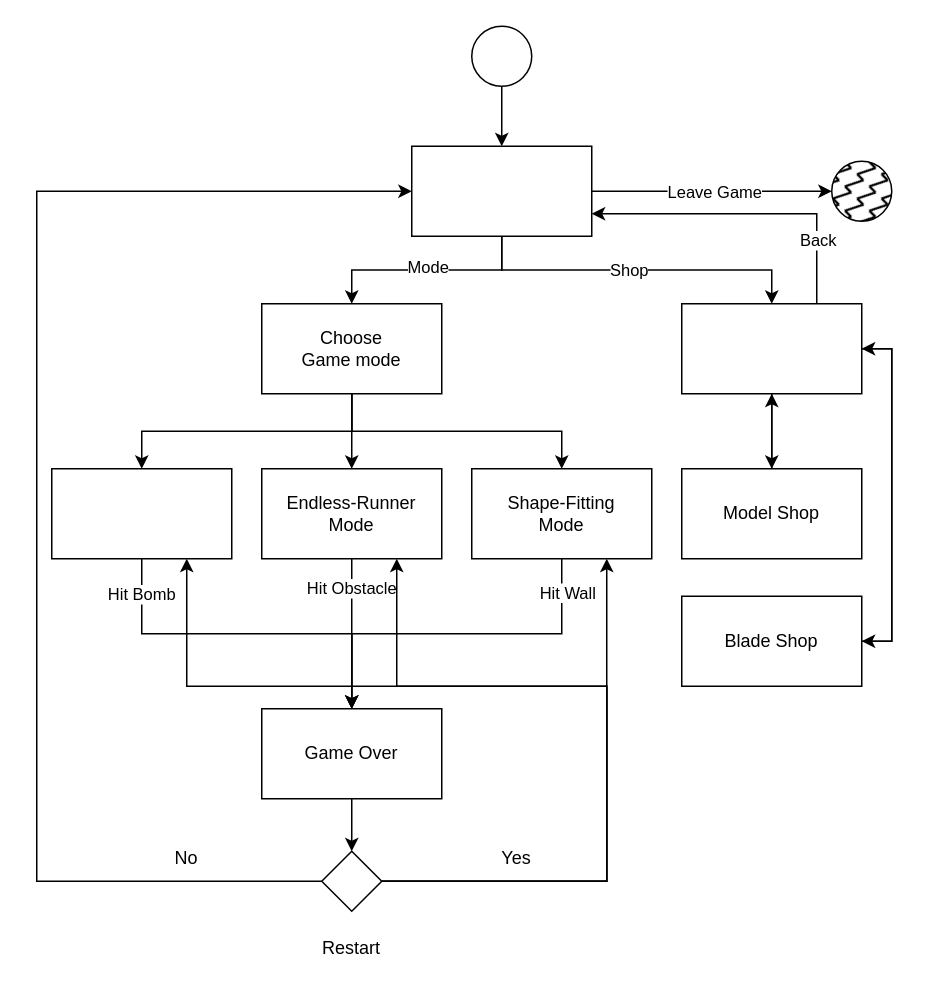
The diagram is 930 pixels wide and 998 high, and some of its shapes have lost their labels. The shapes that lost their labels are listed below. From the top down, each one's box as (x1, y1, x2, y2) in pixels, then its label:
(410, 145, 592, 236): Main Menu
(680, 302, 862, 394): Main Shop
(50, 467, 232, 559): Fruit-Slicing Mode
